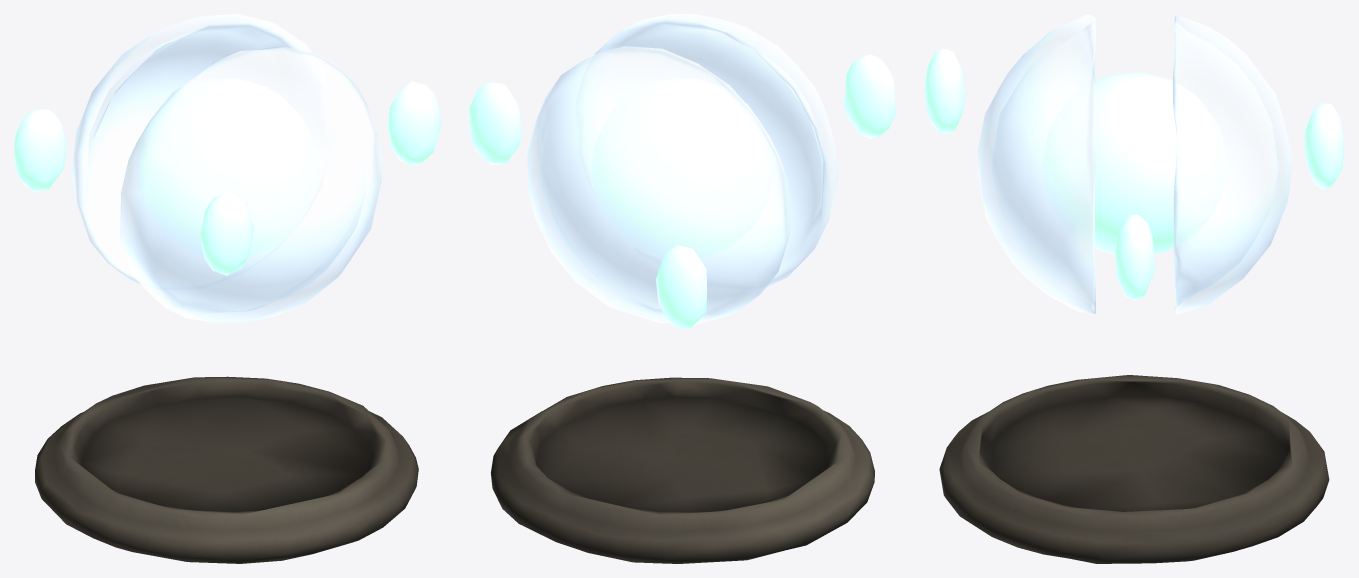
Rendered from sunmote_mend.glb.
3 renders of one model, left to right at view 1: azimuth 30°, elevation 25°; view 2: azimuth 150°, elevation 25°; view 3: azimuth 270°, elevation 25°, orthographic.
Parts seen in each view (by area): view 1: shell, base, core, chips; view 2: shell, base, core, chips; view 3: base, shell, core, chips.
Boxes of the visible parts, left/top/right/bottom form: shell: left=72, top=14, right=382, bottom=322; base: left=35, top=376, right=418, bottom=563; core: left=136, top=78, right=317, bottom=256; chips: left=14, top=81, right=440, bottom=275; shell: left=527, top=14, right=838, bottom=324; base: left=491, top=377, right=874, bottom=563; core: left=592, top=78, right=773, bottom=257; chips: left=469, top=54, right=895, bottom=328; base: left=939, top=375, right=1329, bottom=563; shell: left=978, top=14, right=1292, bottom=314; core: left=1043, top=72, right=1226, bottom=254; chips: left=924, top=48, right=1344, bottom=301.
Size of the model in its own units: 0.7668 by 0.8822 by 0.7283.
3 materials, 1 textured.
